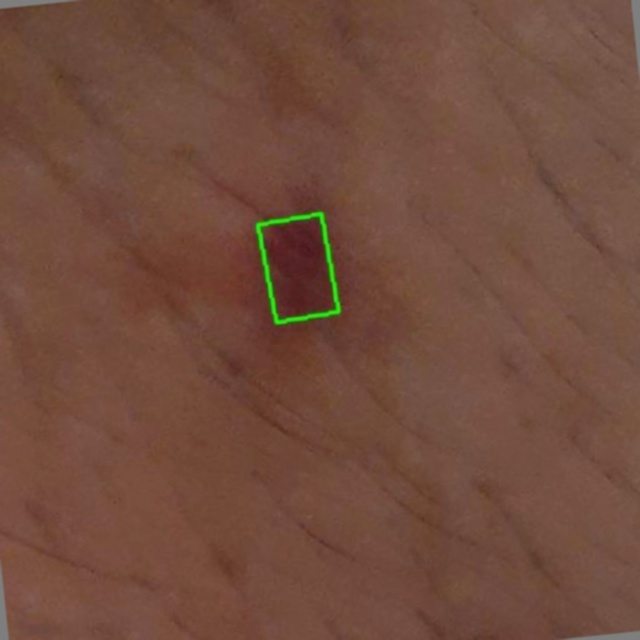Contact Dermatitis: (257, 213, 338, 323)
